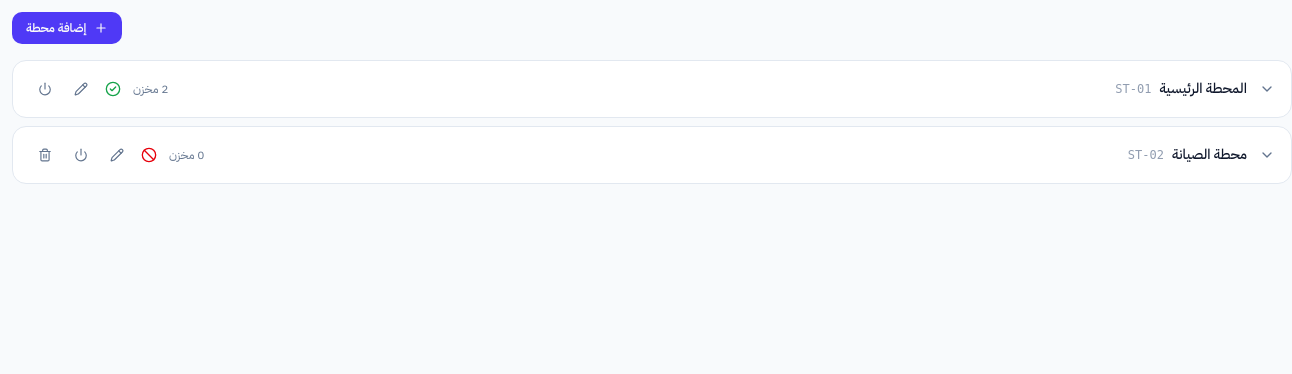
Test: StationsWarehouses — read-only accordion › reveals the warehouses of a station when its header is expanded
This screenshot has width=1292, height=374.
Click the button "المحطة الرئيسية ST-01 2 مخزن" at (1203, 88), box [105, 79, 1275, 99]
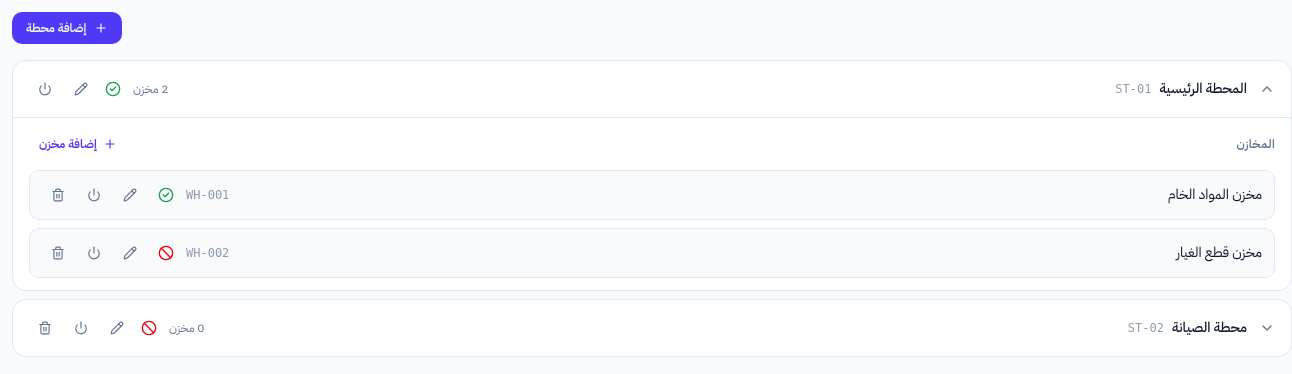
Expected: the button "المحطة الرئيسية ST-01 2 مخزن" is expanded, [105, 79, 1275, 99]
Expected: the text "مخزن المواد الخام" is shown, [1168, 184, 1262, 205]
Expected: the text "WH-001" is shown, [186, 187, 229, 203]
